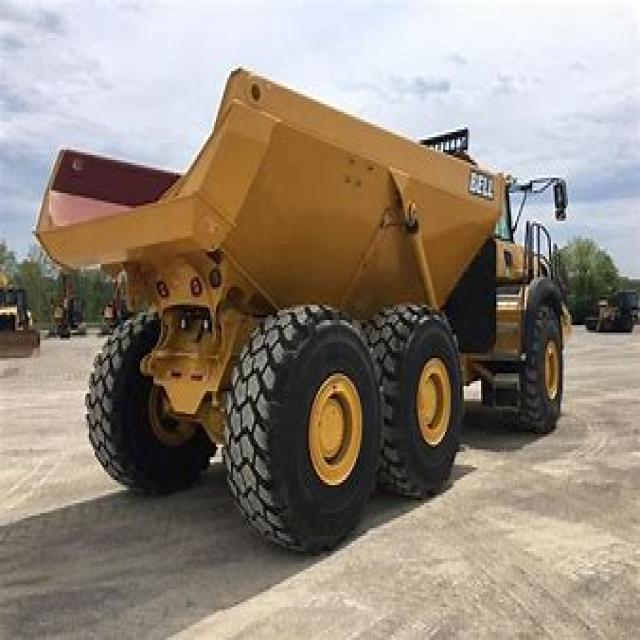dump_truck: (36, 66, 587, 546)
